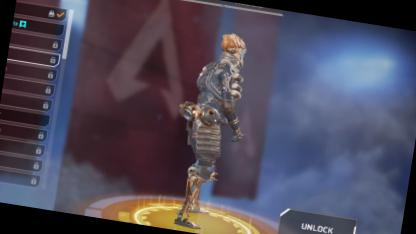Target: (163, 24, 260, 194)
